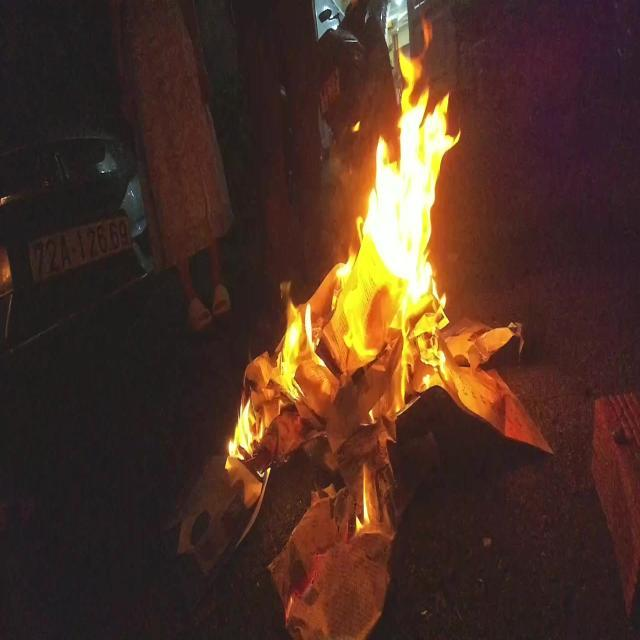Fire: (229, 12, 464, 459), (357, 463, 392, 536)
